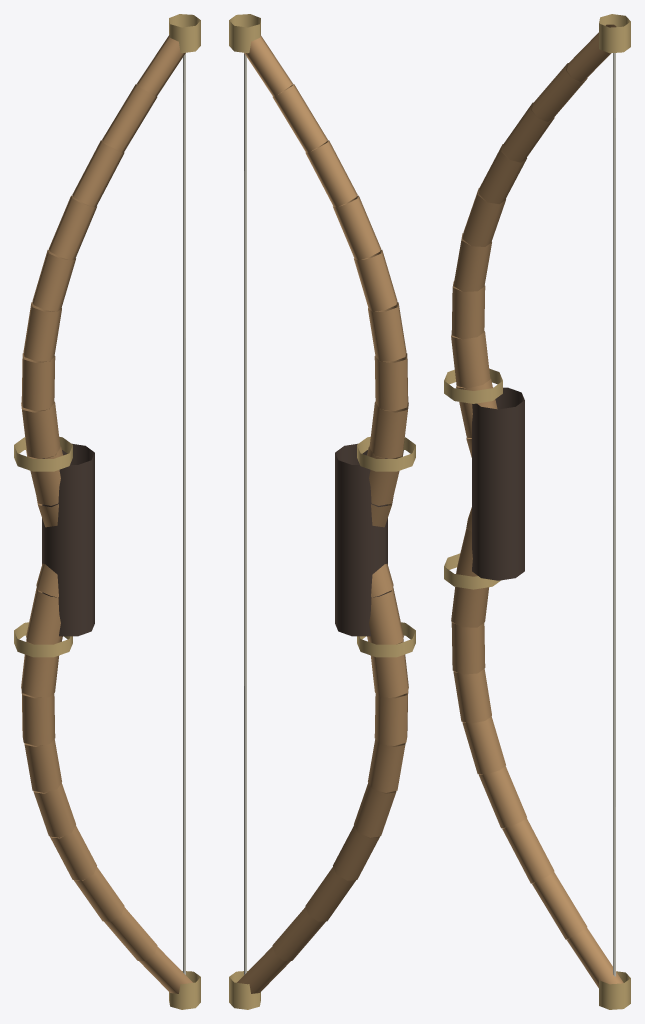
The model's file is training-bow.glb.
3 renders of one model, left to right at view 1: azimuth 30°, elevation 25°; view 2: azimuth 150°, elevation 25°; view 3: azimuth 330°, elevation 25°, orthographic.
Visible parts, largest first — view 1: Training Bow; view 2: Training Bow; view 3: Training Bow.
Boxes of the visible parts, left/top/right/bottom form: Training Bow: left=14, top=14, right=200, bottom=1009; Training Bow: left=229, top=14, right=415, bottom=1009; Training Bow: left=444, top=14, right=630, bottom=1009.
Size of the model in its own units: 0.2635 by 1.38 by 0.0748.
